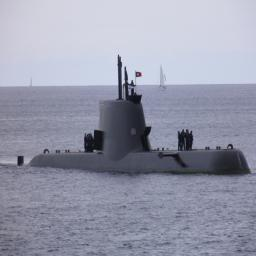submarine: (18, 51, 252, 169)
